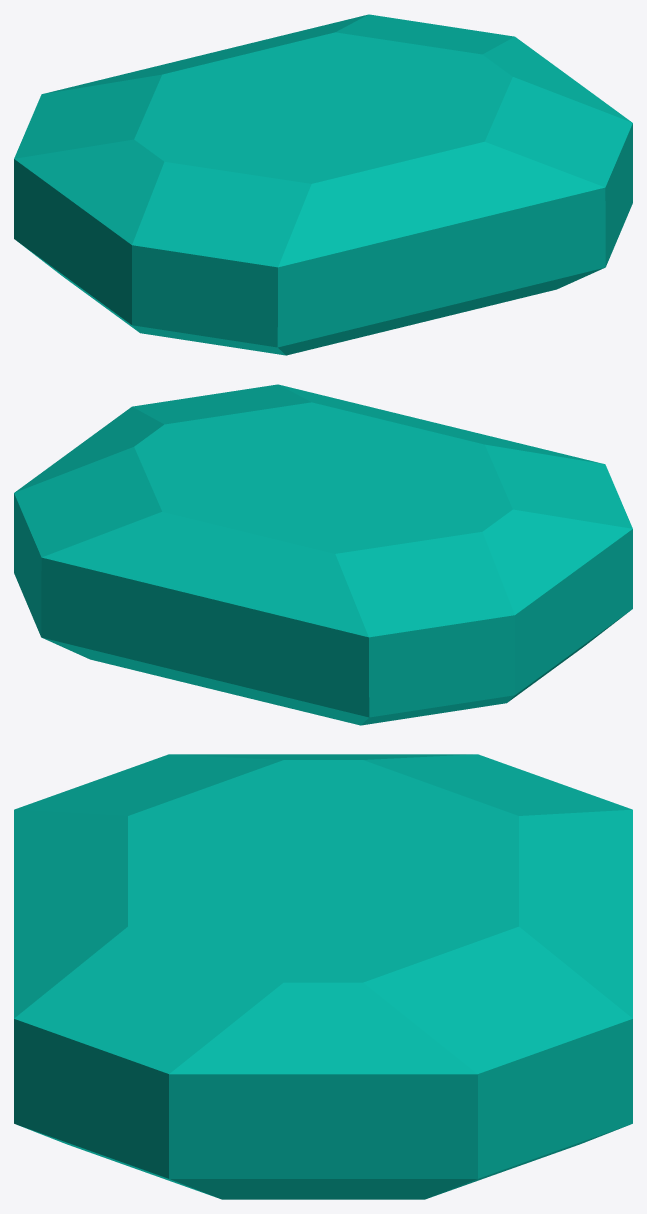
Rendered from Jem_15.fbx.
3 renders of one model, top to bottom at view 1: azimuth 30°, elevation 25°; view 2: azimuth 150°, elevation 25°; view 3: azimuth 270°, elevation 25°, orthographic. The views are drawn at different scales.
Visible parts, largest first — view 1: Jem_15; view 2: Jem_15; view 3: Jem_15.
Boxes of the visible parts, box(x1,y1,x2,y2) form: Jem_15: box(14, 14, 632, 355); Jem_15: box(14, 384, 632, 725); Jem_15: box(14, 754, 632, 1199).
Size of the model in its own units: 67.02 by 18.23 by 54.8.
